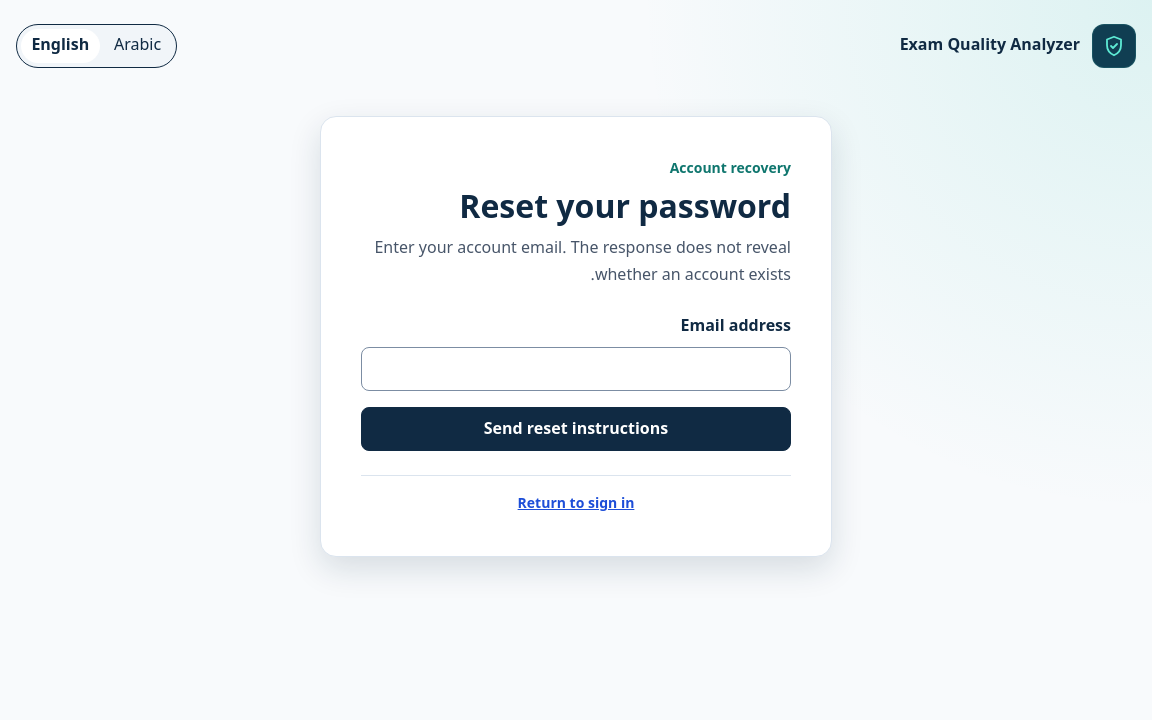
Test: authentication routes › shows the generic password-reset response and development link
Type "faculty@university.edu" into the field labelled "Email address" at (576, 369), box [361,347,791,391]
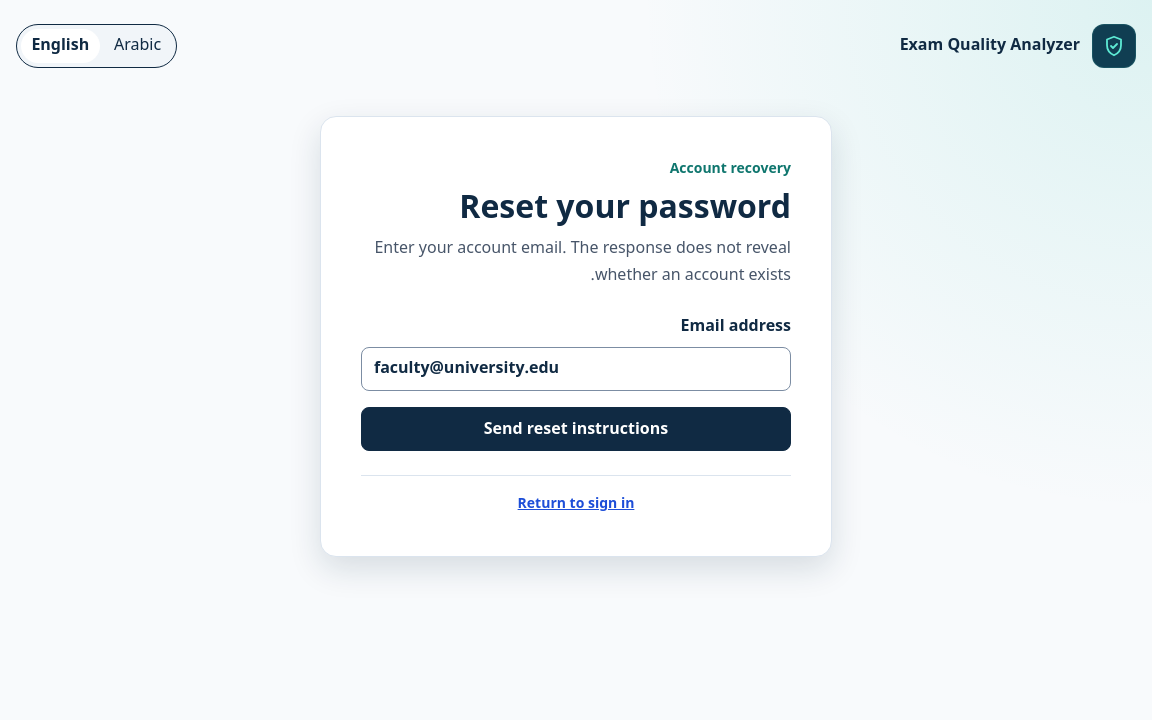
Click the button "Send reset instructions" at (576, 429), box [361,407,791,451]
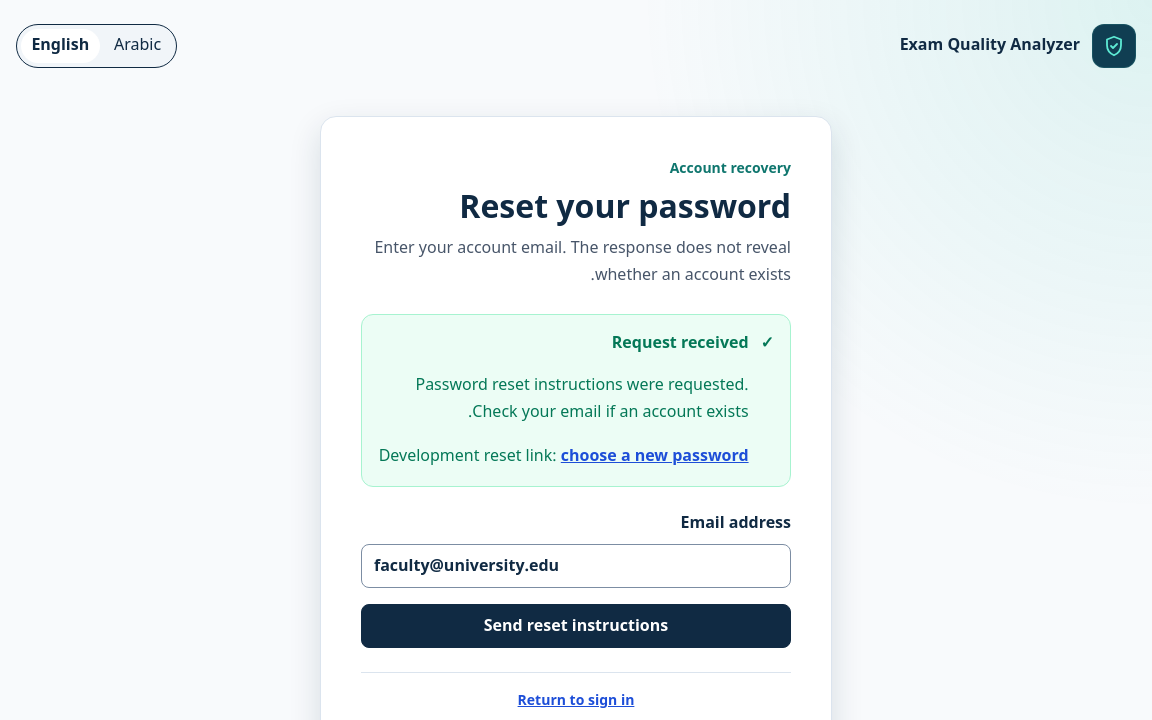
expect the message shows "Request received": met, box [612,326,749,360]
